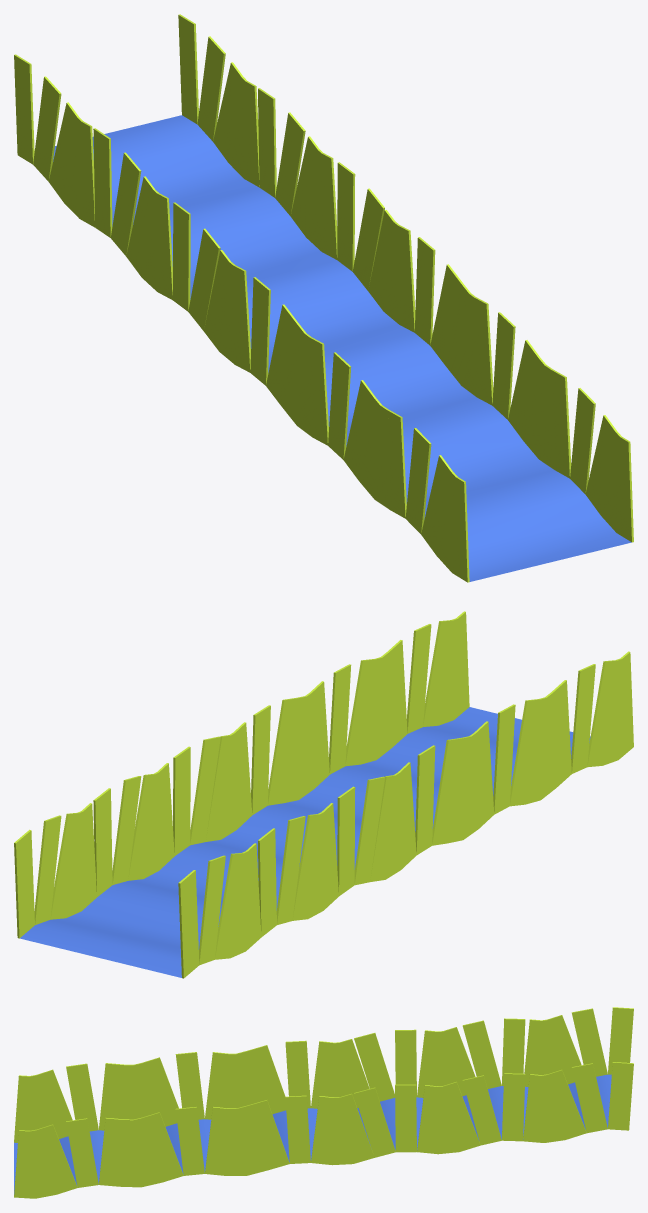
File: visuals.glb
The picture shows the model from 3 angles, top to bottom: view 1: azimuth 30°, elevation 25°; view 2: azimuth 150°, elevation 25°; view 3: azimuth 270°, elevation 25°; orthographic projection. The views are drawn at different scales.
Visible parts, largest first — view 1: whoops-floor, whoops-rail-right-0, whoops-rail-left-6, whoops-rail-right-6, whoops-rail-right-1, whoops-rail-left-0, whoops-rail-left-1, whoops-rail-left-5, whoops-rail-right-25, whoops-rail-left-25, whoops-rail-left-15, whoops-rail-right-5 (+47 smaller); view 2: whoops-floor, whoops-rail-left-16, whoops-rail-right-26, whoops-rail-right-11, whoops-rail-left-11, whoops-rail-left-2, whoops-rail-right-2, whoops-rail-right-21, whoops-rail-left-21, whoops-rail-right-6, whoops-rail-left-6, whoops-rail-right-7 (+47 smaller); view 3: whoops-floor, whoops-rail-right-2, whoops-rail-right-16, whoops-rail-right-26, whoops-rail-right-7, whoops-rail-right-11, whoops-rail-right-21, whoops-rail-right-6, whoops-rail-right-1, whoops-rail-right-10, whoops-rail-right-25, whoops-rail-right-20 (+47 smaller).
Part boxes in pixels (x1,y1,x2,y2): whoops-floor: [53, 115, 631, 581]; whoops-rail-right-0: [178, 14, 198, 124]; whoops-rail-left-6: [110, 152, 141, 256]; whoops-rail-right-6: [275, 112, 305, 215]; whoops-rail-right-1: [197, 36, 225, 141]; whoops-rail-left-0: [14, 54, 34, 164]; whoops-rail-left-1: [33, 76, 61, 181]; whoops-rail-left-5: [93, 128, 112, 237]; whoops-rail-right-25: [570, 388, 595, 494]; whoops-rail-left-25: [405, 428, 431, 533]; whoops-rail-left-15: [250, 277, 270, 385]; whoops-rail-right-5: [258, 88, 276, 197]; whoops-floor: [20, 707, 590, 977]; whoops-rail-left-16: [432, 738, 464, 845]; whoops-rail-right-26: [423, 620, 456, 726]; whoops-rail-right-11: [190, 736, 220, 845]; whoops-rail-left-11: [354, 776, 384, 885]; whoops-rail-left-2: [215, 853, 247, 959]; whoops-rail-right-2: [50, 812, 83, 919]; whoops-rail-right-21: [345, 659, 378, 766]; whoops-rail-left-21: [510, 699, 542, 806]; whoops-rail-right-6: [112, 776, 141, 884]; whoops-rail-left-6: [276, 816, 305, 924]; whoops-rail-right-7: [128, 773, 160, 880]; whoops-floor: [14, 1074, 611, 1194]; whoops-rail-right-2: [541, 1069, 586, 1139]; whoops-rail-right-16: [246, 1100, 289, 1170]; whoops-rail-right-26: [32, 1124, 77, 1194]; whoops-rail-right-7: [436, 1081, 480, 1151]; whoops-rail-right-11: [354, 1087, 395, 1157]; whoops-rail-right-21: [139, 1112, 183, 1182]; whoops-rail-right-6: [462, 1075, 501, 1145]; whoops-rail-right-1: [571, 1063, 607, 1133]; whoops-rail-right-10: [395, 1084, 416, 1152]; whoops-rail-right-25: [66, 1118, 98, 1187]; whoops-rail-right-20: [175, 1107, 204, 1175].
Size of the model in its own units: 0.512 by 0.5863 by 2.42.
